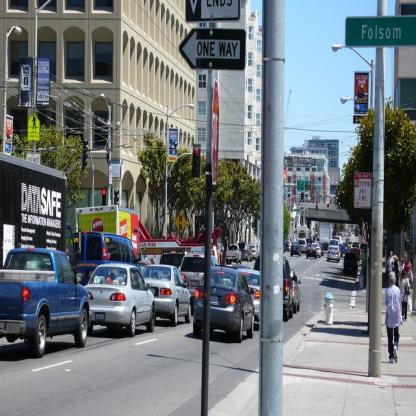Car: (179, 254, 301, 342), (83, 262, 156, 338), (141, 265, 192, 326)
Truck: (0, 247, 90, 359)
